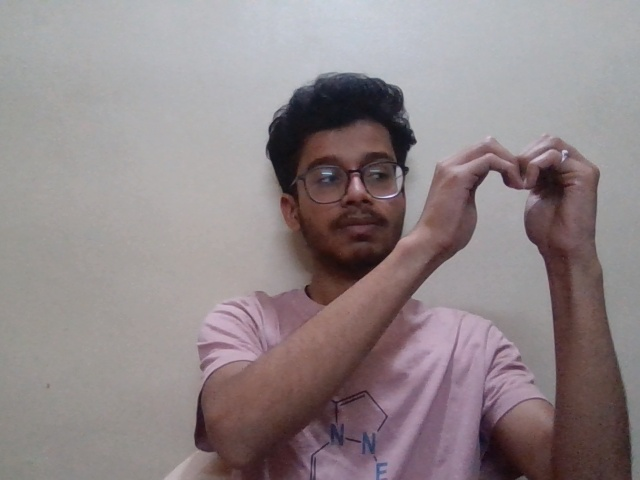M: (406, 131, 608, 284)
